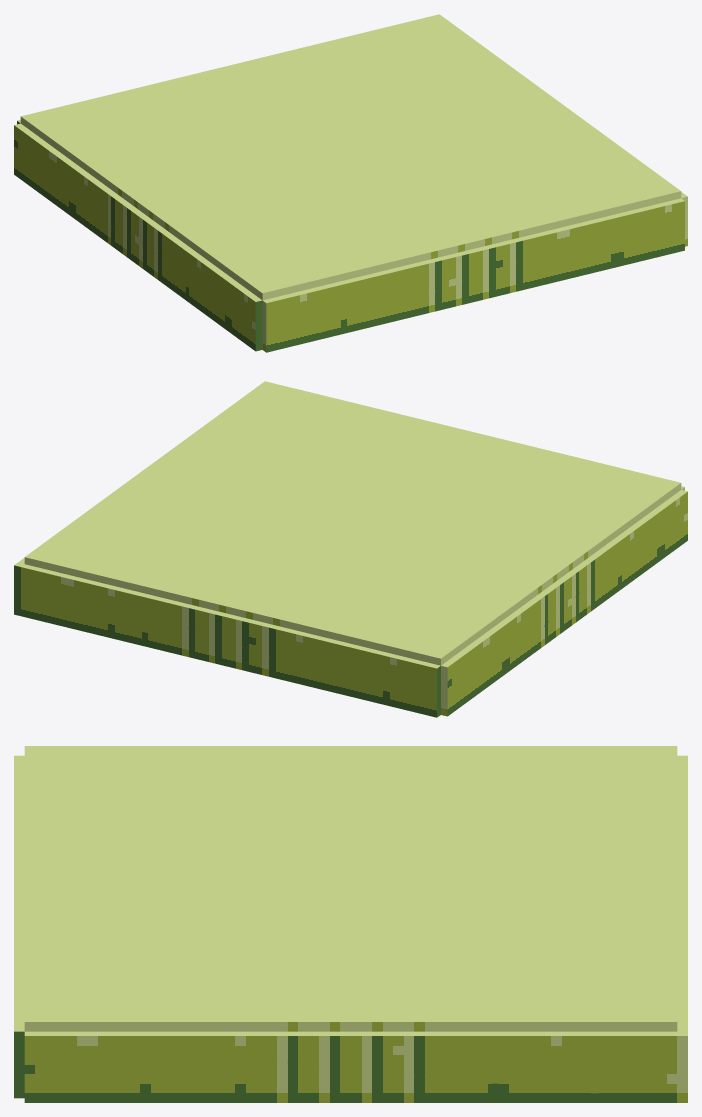
File: sewer_lesser_gate_baseao.fezao.glb
3 renders of one model, top to bottom at view 1: azimuth 30°, elevation 25°; view 2: azimuth 150°, elevation 25°; view 3: azimuth 270°, elevation 25°, orthographic. The views are drawn at different scales.
Visible parts, largest first — view 1: SEWER_LESSER_GATE_BASEAO; view 2: SEWER_LESSER_GATE_BASEAO; view 3: SEWER_LESSER_GATE_BASEAO.
Part boxes in pixels (x1,y1,x2,y2): SEWER_LESSER_GATE_BASEAO: [14, 14, 687, 352]; SEWER_LESSER_GATE_BASEAO: [14, 381, 687, 717]; SEWER_LESSER_GATE_BASEAO: [14, 746, 687, 1102].
Bounding box in the file's own units: 4 × 0.5 × 4.
1 material, 1 textured.
